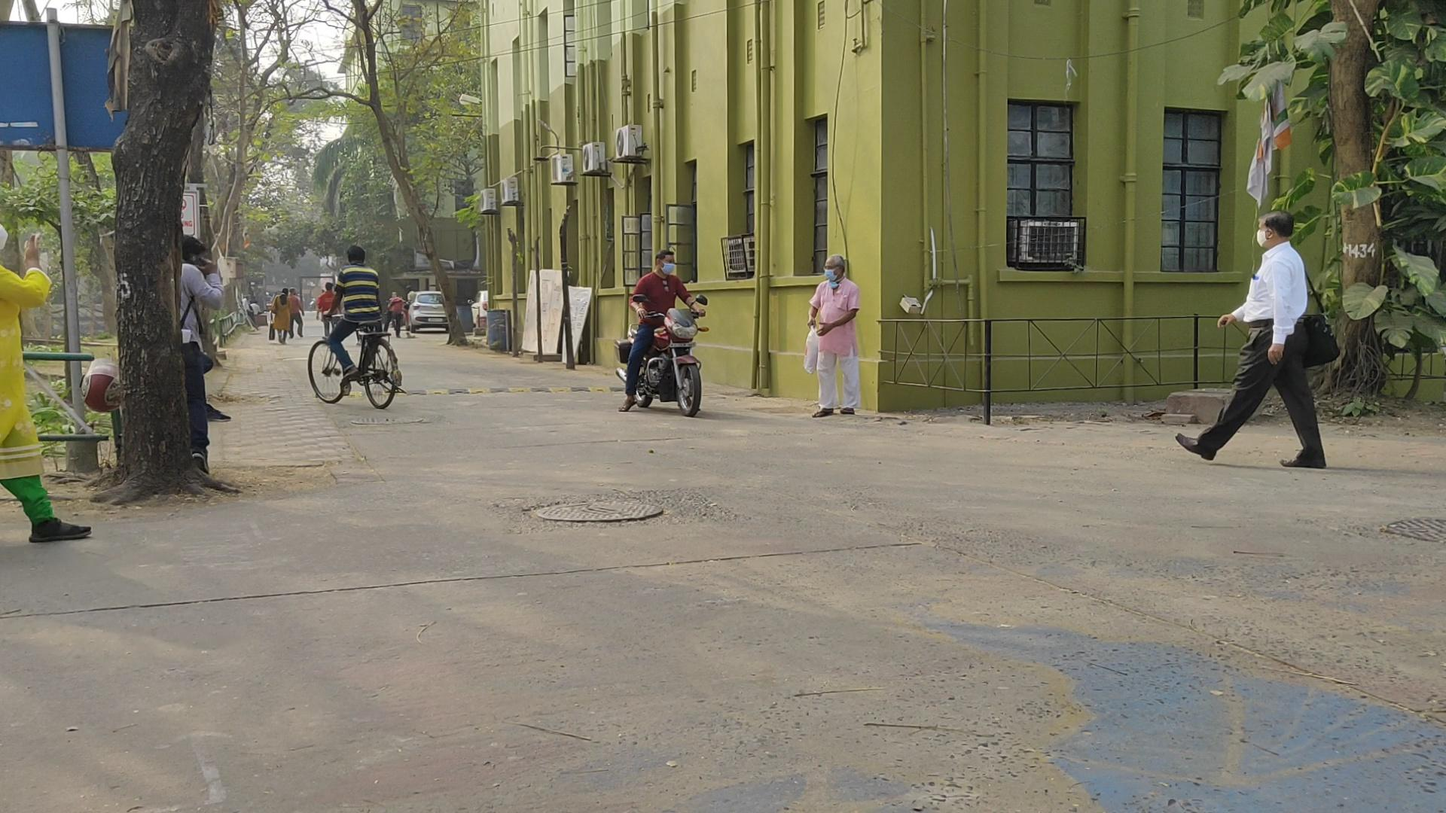bike: (307, 245, 406, 410), (614, 251, 708, 418)
car: (405, 291, 451, 333)
